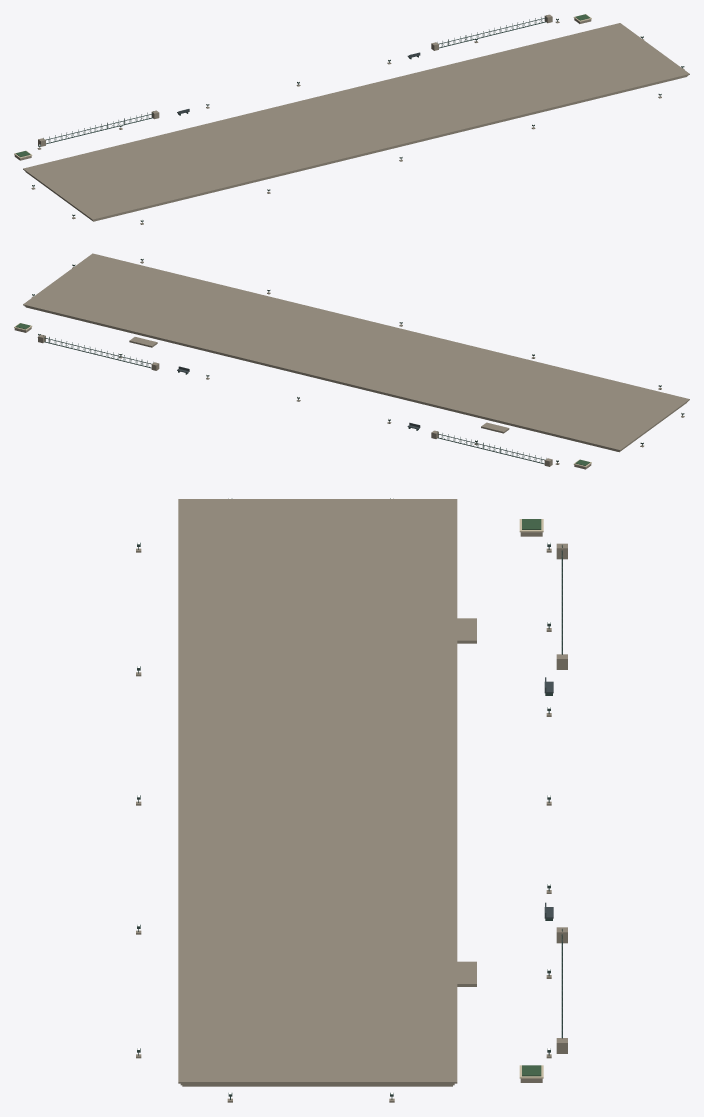
The model's file is KOL_T1_WRITERS__09_Foundation_Detail.fbx.
3 renders of one model, top to bottom at view 1: azimuth 30°, elevation 25°; view 2: azimuth 150°, elevation 25°; view 3: azimuth 270°, elevation 25°, orthographic. The views are drawn at different scales.
Parts seen in each view (by area): view 1: KOL_T1_WRITERS__09_Foundation_Detail__KOL_T1_HeritageStone, KOL_T1_WRITERS__09_Foundation_Detail__KOL_T1_HeritageIron; view 2: KOL_T1_WRITERS__09_Foundation_Detail__KOL_T1_HeritageStone, KOL_T1_WRITERS__09_Foundation_Detail__KOL_T1_HeritageIron; view 3: KOL_T1_WRITERS__09_Foundation_Detail__KOL_T1_HeritageStone.
Boxes of the visible parts, x1,y1,x2,y2 form: KOL_T1_WRITERS__09_Foundation_Detail__KOL_T1_HeritageStone: [14, 14, 689, 224]; KOL_T1_WRITERS__09_Foundation_Detail__KOL_T1_HeritageIron: [32, 15, 684, 223]; KOL_T1_WRITERS__09_Foundation_Detail__KOL_T1_HeritageStone: [14, 253, 689, 469]; KOL_T1_WRITERS__09_Foundation_Detail__KOL_T1_HeritageIron: [32, 259, 684, 464]; KOL_T1_WRITERS__09_Foundation_Detail__KOL_T1_HeritageStone: [136, 499, 567, 1102].
Bounding box in the file's own units: 323 × 3.65 × 98.9.
